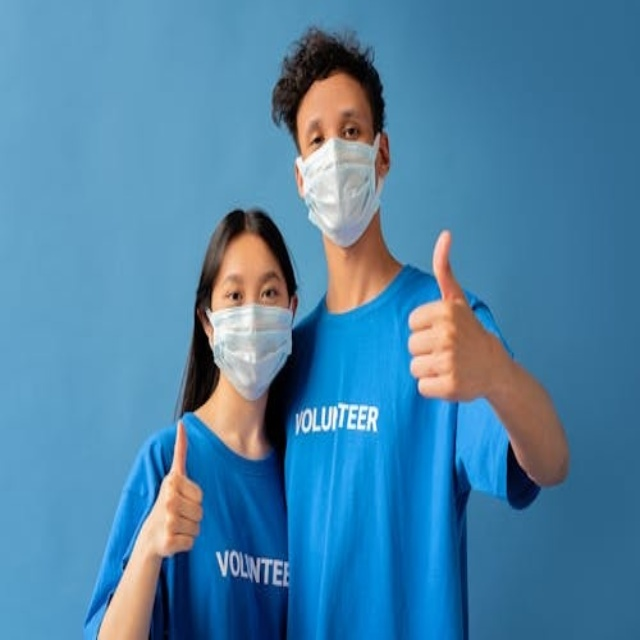Mascara: (297, 132, 383, 245), (205, 299, 294, 400)
Sin_gafas: (298, 107, 371, 153), (216, 266, 287, 310)
Sin_guantes: (403, 229, 493, 404), (148, 416, 204, 564)
